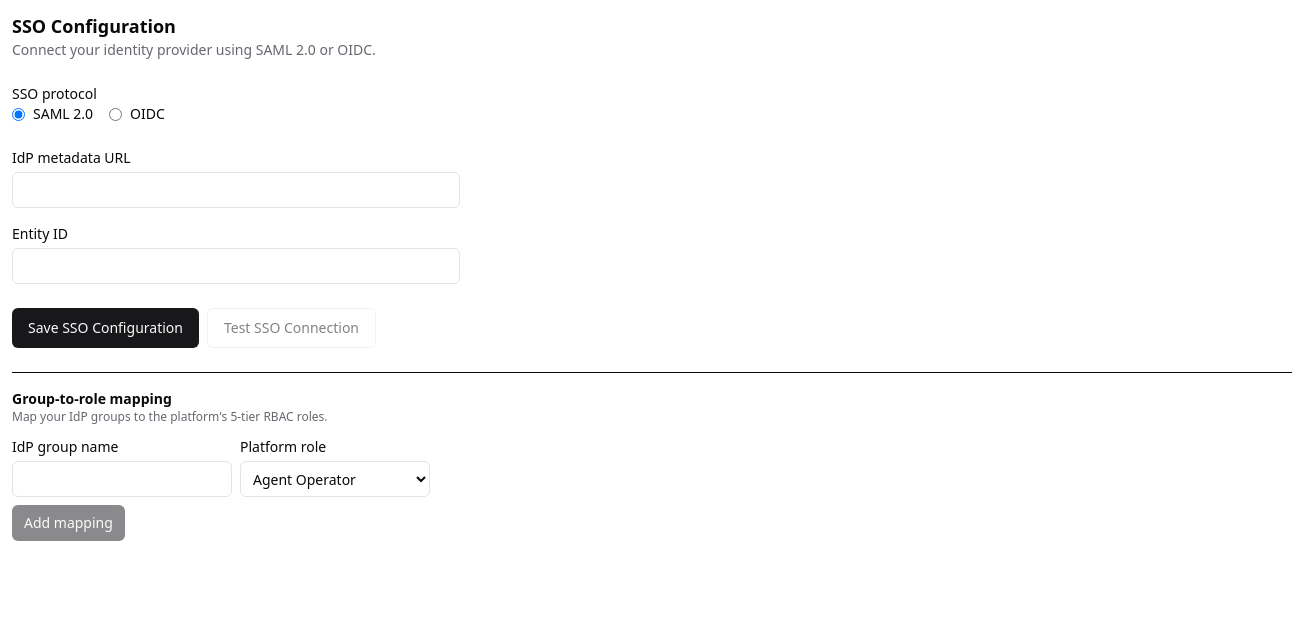
Test: StepSsoConfiguration — protocol-conditional rendering › switching to OIDC swaps in Discovery URL / Client ID / Client secret and hides SAML-only fields
This screenshot has width=1292, height=634.
Click the radio button labelled "OIDC": (116, 114) [109,108,122,120]
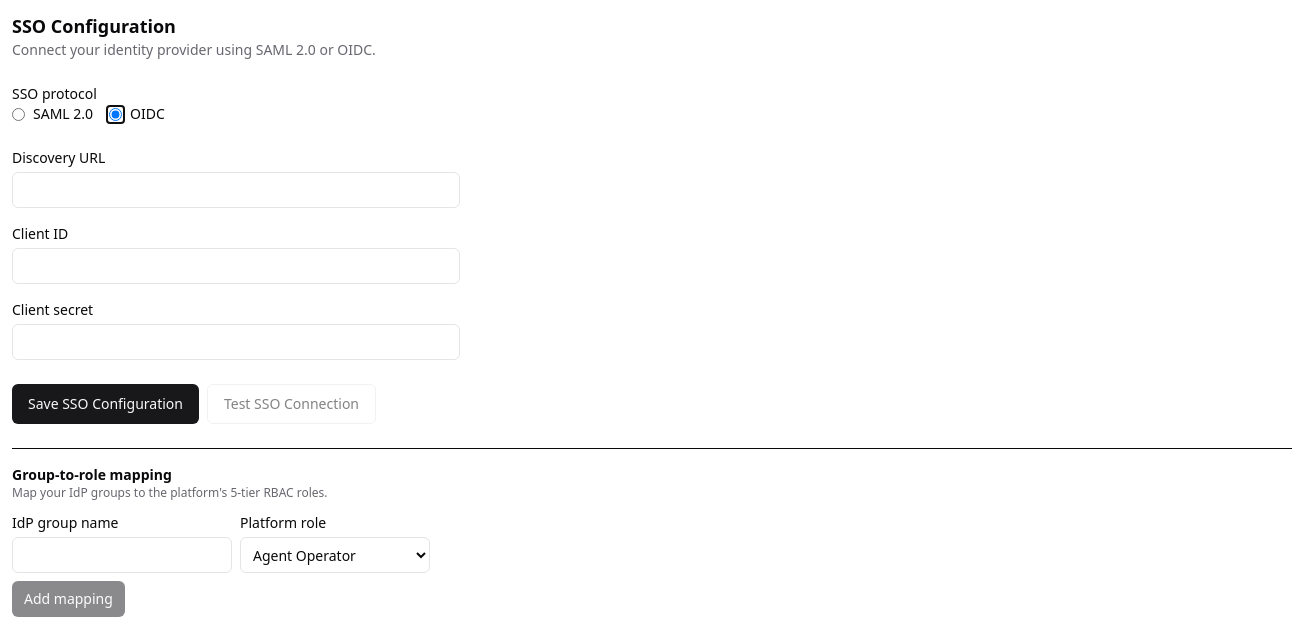
Expected: the field labelled "Discovery URL" is shown, [12,172,460,208]
Expected: the label labelled "IdP metadata URL" is gone
